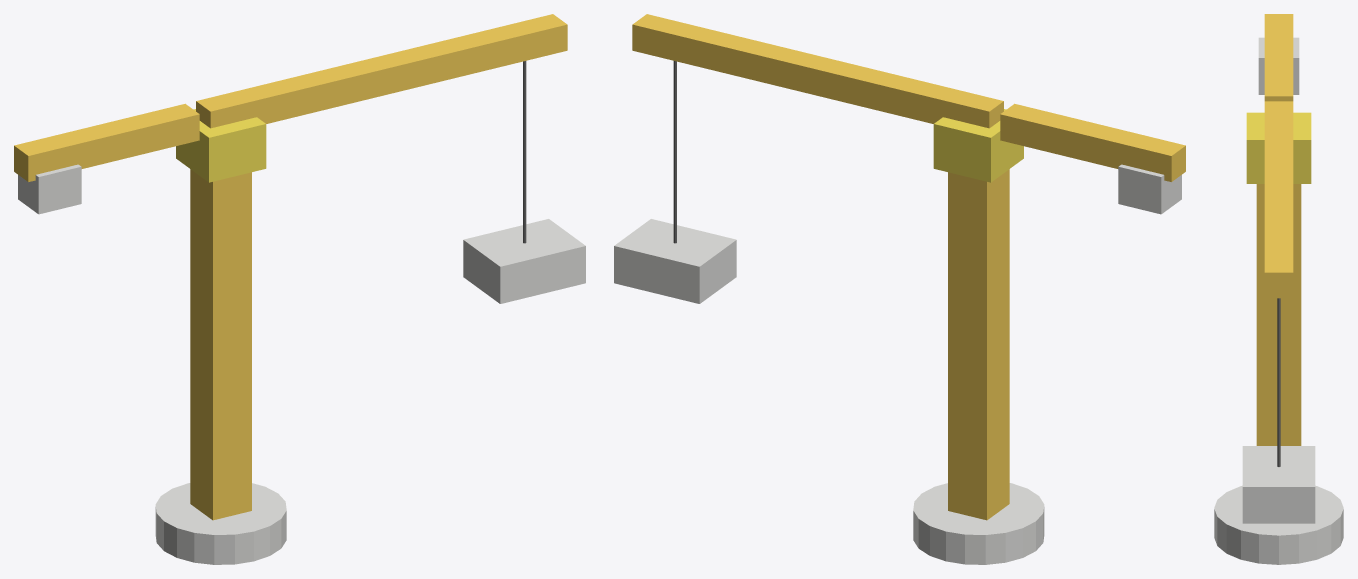
Rendered from crane.fbx.
The picture shows the model from 3 angles, left to right: view 1: azimuth 30°, elevation 25°; view 2: azimuth 150°, elevation 25°; view 3: azimuth 270°, elevation 25°; orthographic projection.
Parts seen in each view (by area): view 1: Crane_Jib, Crane_Load, Crane_Base, Crane_CounterJib, Crane_Cab, Crane_Tower1, Crane_Tower2, Crane_Tower3, Crane_Tower4, Crane_Tower5, Crane_Tower0, Crane_Counterweight (+1 smaller); view 2: Crane_Jib, Crane_Load, Crane_Base, Crane_CounterJib, Crane_Cab, Crane_Tower1, Crane_Tower2, Crane_Tower3, Crane_Tower4, Crane_Tower5, Crane_Tower0, Crane_Counterweight (+1 smaller); view 3: Crane_Base, Crane_Jib, Crane_Load, Crane_Cab, Crane_CounterJib, Crane_Tower2, Crane_Tower3, Crane_Tower1, Crane_Tower4, Crane_Tower5, Crane_Counterweight, Crane_Cable.
Part boxes in pixels (x1,y1,x2,y2): Crane_Jib: (196, 14, 567, 128); Crane_Load: (463, 219, 585, 303); Crane_Base: (155, 483, 286, 564); Crane_CounterJib: (14, 103, 199, 181); Crane_Cab: (176, 109, 266, 182); Crane_Tower1: (190, 399, 251, 475); Crane_Tower2: (190, 340, 251, 415); Crane_Tower3: (190, 280, 251, 355); Crane_Tower4: (190, 220, 251, 295); Crane_Tower5: (190, 169, 251, 236); Crane_Tower0: (190, 459, 251, 520); Crane_Counterweight: (18, 164, 81, 214); Crane_Jib: (632, 14, 1003, 128); Crane_Load: (614, 219, 736, 303); Crane_Base: (913, 483, 1044, 564); Crane_CounterJib: (1000, 103, 1185, 181); Crane_Cab: (933, 109, 1023, 182); Crane_Tower1: (948, 399, 1009, 475); Crane_Tower2: (948, 340, 1009, 415); Crane_Tower3: (948, 280, 1009, 355); Crane_Tower4: (948, 220, 1009, 295); Crane_Tower5: (948, 169, 1009, 236); Crane_Tower0: (948, 459, 1009, 520); Crane_Counterweight: (1118, 164, 1181, 214); Crane_Base: (1214, 485, 1343, 564); Crane_Jib: (1264, 101, 1293, 298); Crane_Load: (1242, 446, 1315, 523); Crane_Cab: (1246, 112, 1311, 183); Crane_CounterJib: (1264, 14, 1293, 101); Crane_Tower2: (1256, 356, 1301, 414); Crane_Tower3: (1256, 297, 1301, 355); Crane_Tower1: (1256, 415, 1301, 445); Crane_Tower4: (1256, 238, 1301, 297); Crane_Tower5: (1256, 184, 1301, 238); Crane_Counterweight: (1258, 37, 1299, 94); Crane_Cable: (1277, 298, 1280, 466).
Size of the model in its own units: 15.3 by 11.65 by 3.2.
